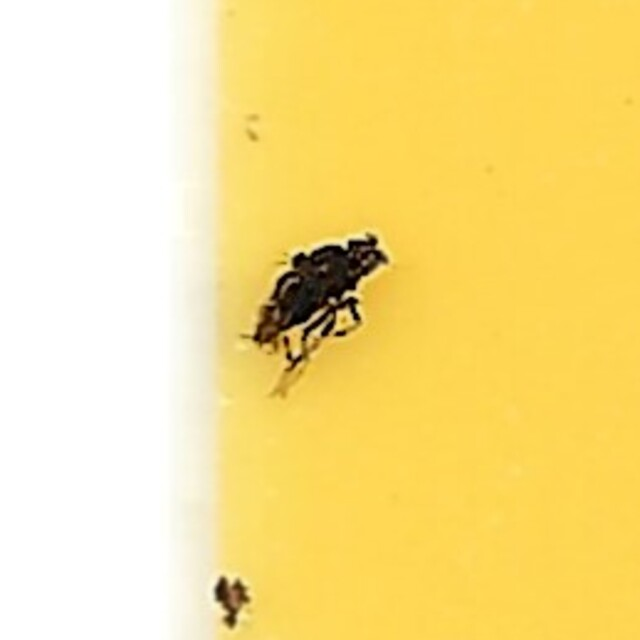Brachycera: (247, 232, 393, 408)
